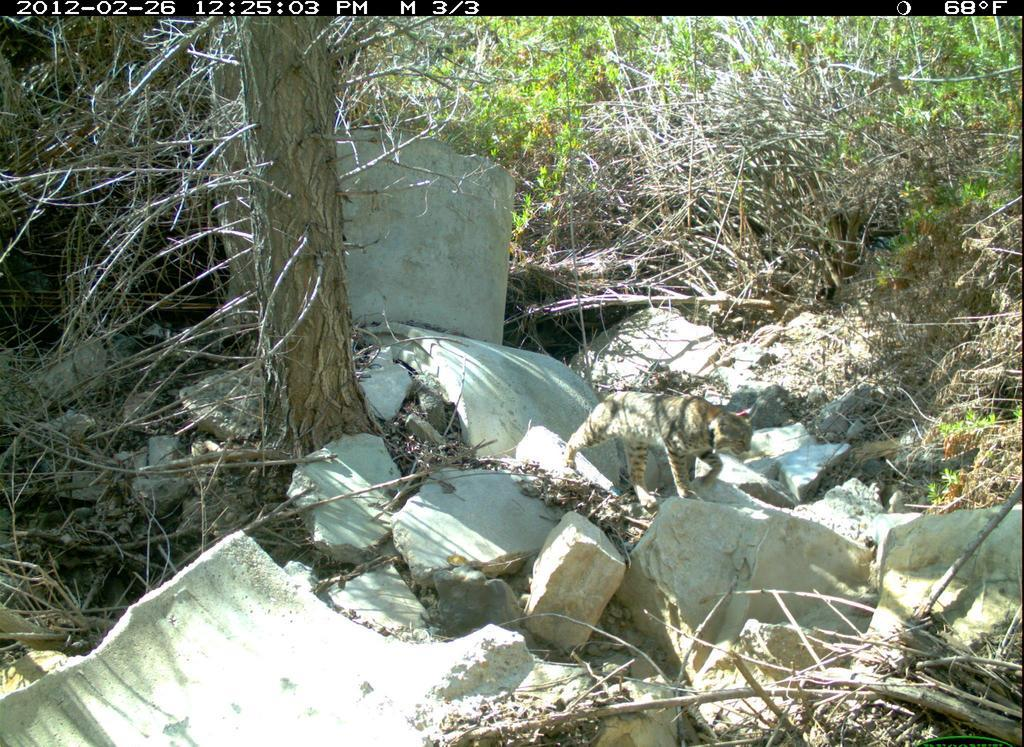bobcat: (552, 367, 770, 513)
